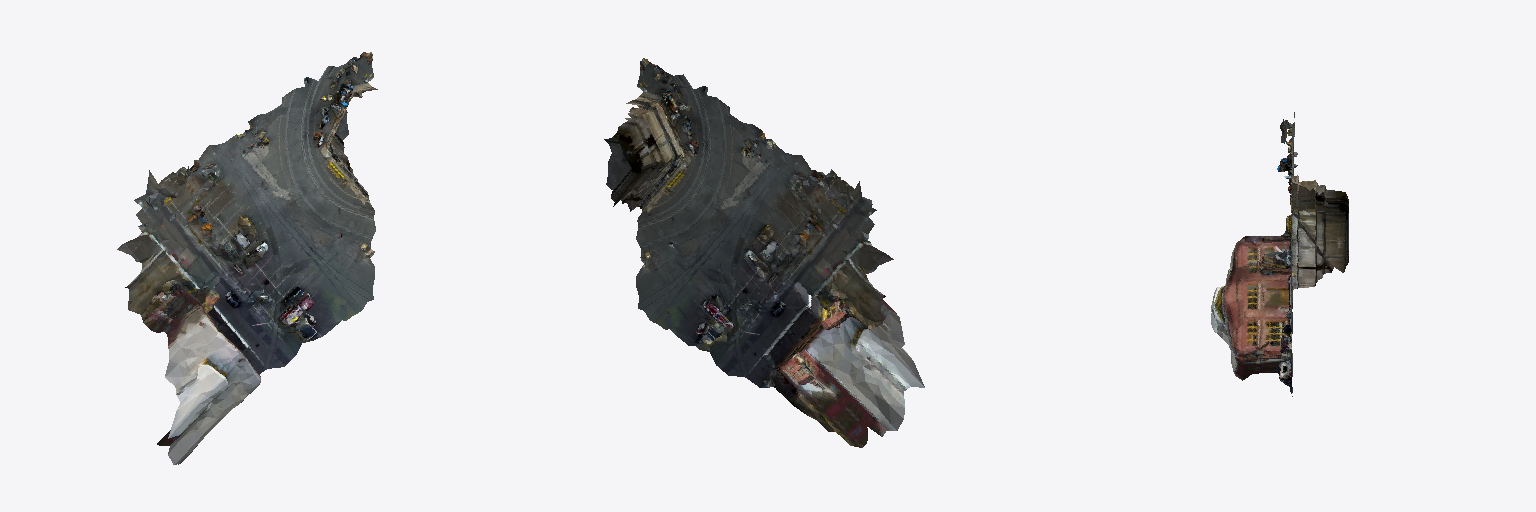
The picture shows the model from 3 angles: view 1: azimuth 30°, elevation 25°; view 2: azimuth 150°, elevation 25°; view 3: azimuth 270°, elevation 25°; orthographic projection.
Size of the model in its own units: 73.78 by 91.36 by 33.35.
1 materials, 1 textured.